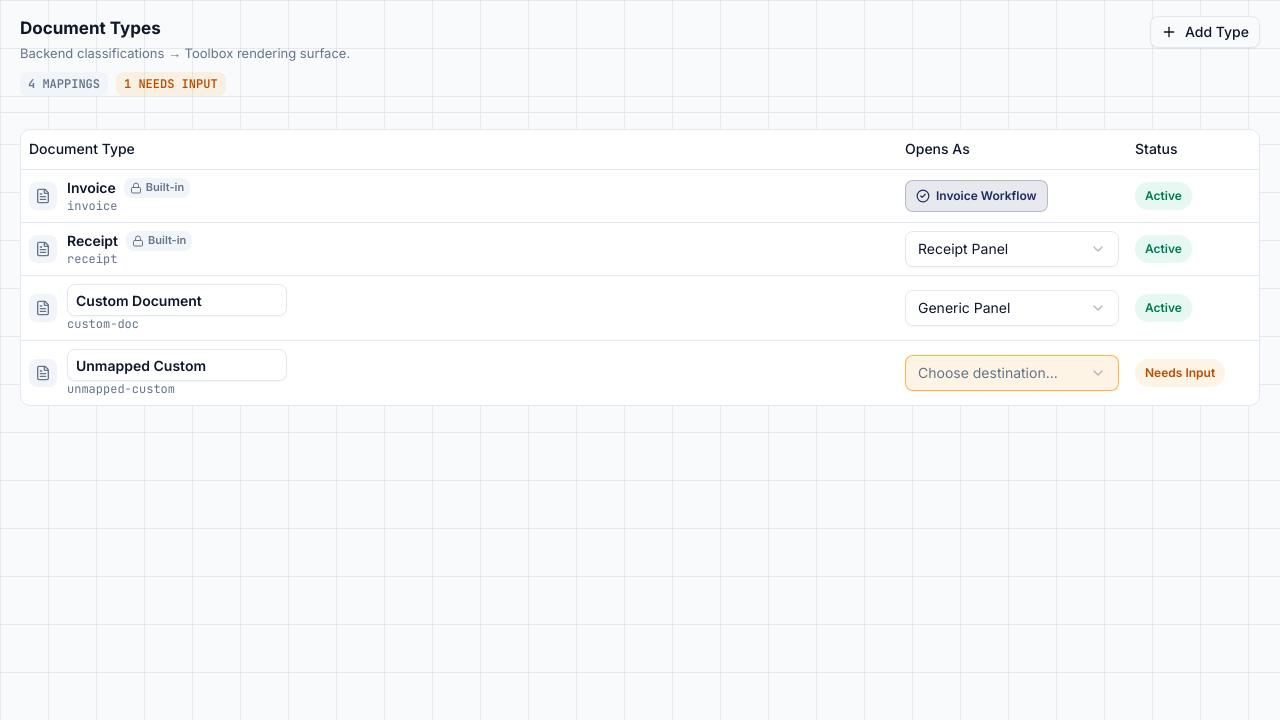
Test: DocumentTypesSection › creates a custom type and clears the add form after success
Click the button "Add Type" at (1205, 32), box [1150,16,1260,48]
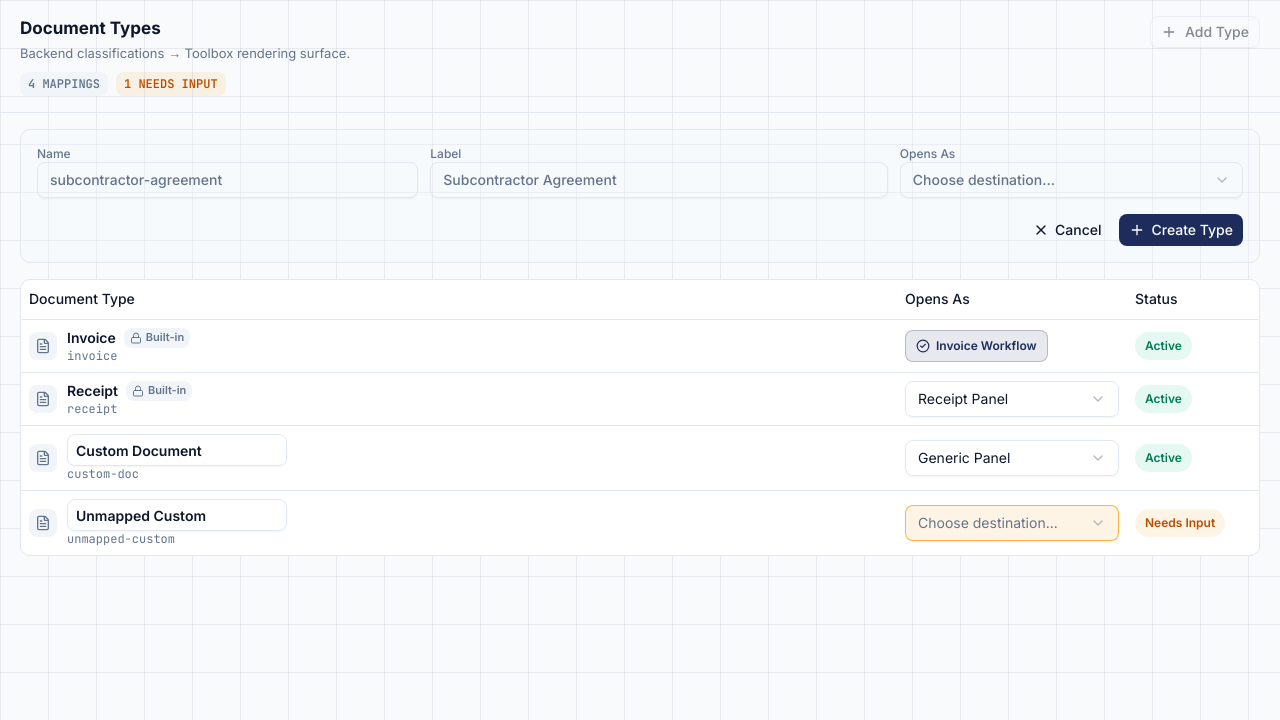
Type "server-doc" into the field named "Document type name" at (228, 180), box [37,162,418,198]
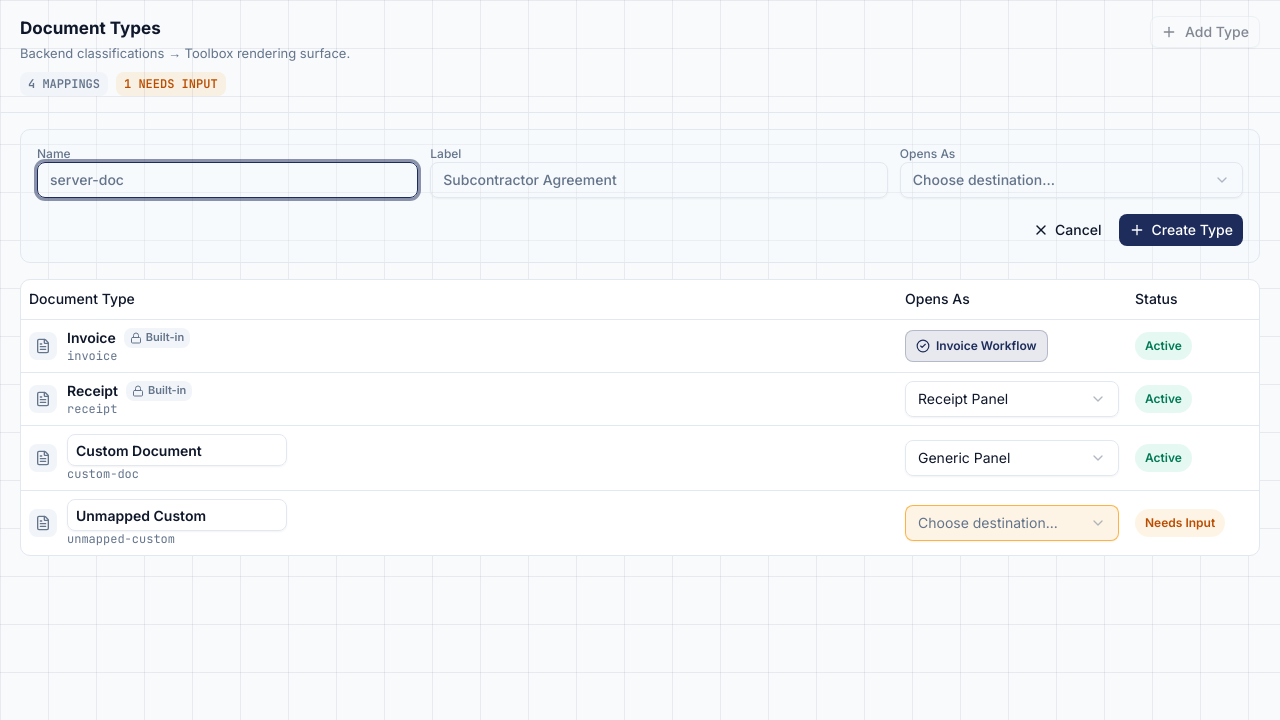
Type "Server Doc" into the field named "Document type label" at (659, 180), box [430,162,888,198]
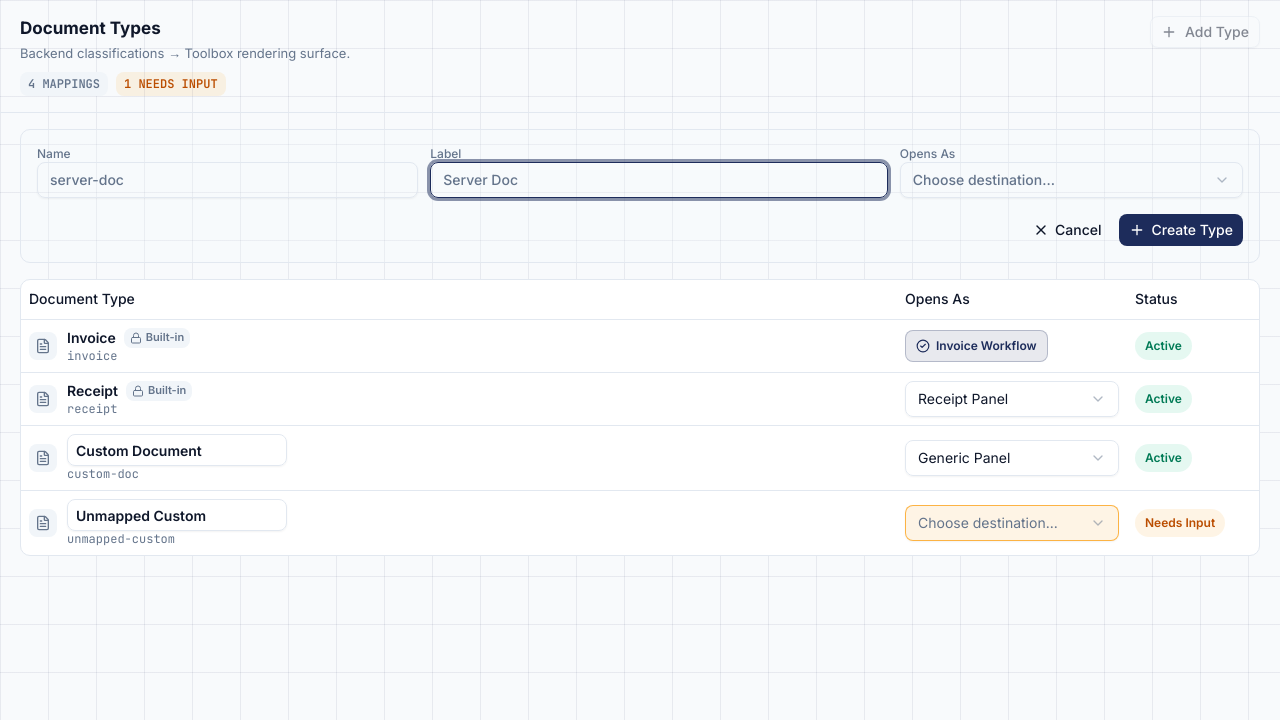
Click the dropdown named "New type opens as" at (984, 179), box [900,162,1243,198]
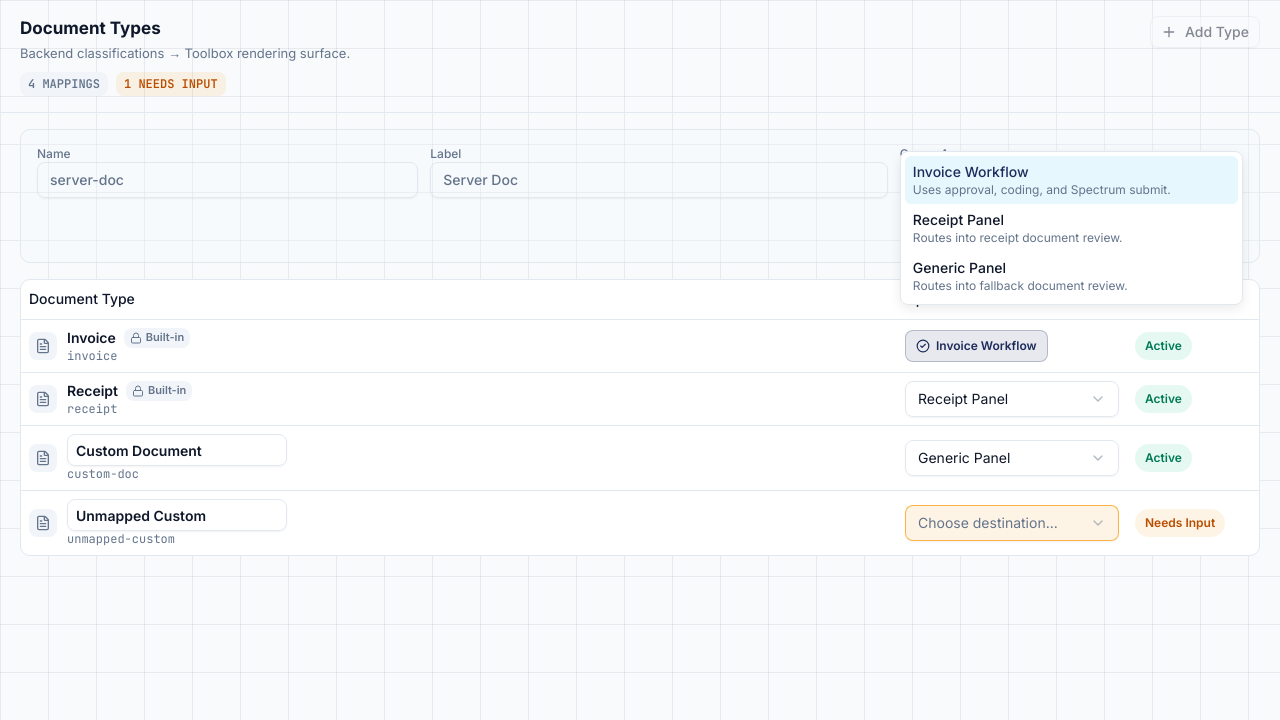
Click the option "Generic Panel Routes into fallback document review." at (1020, 276), box [913,258,1128,292]
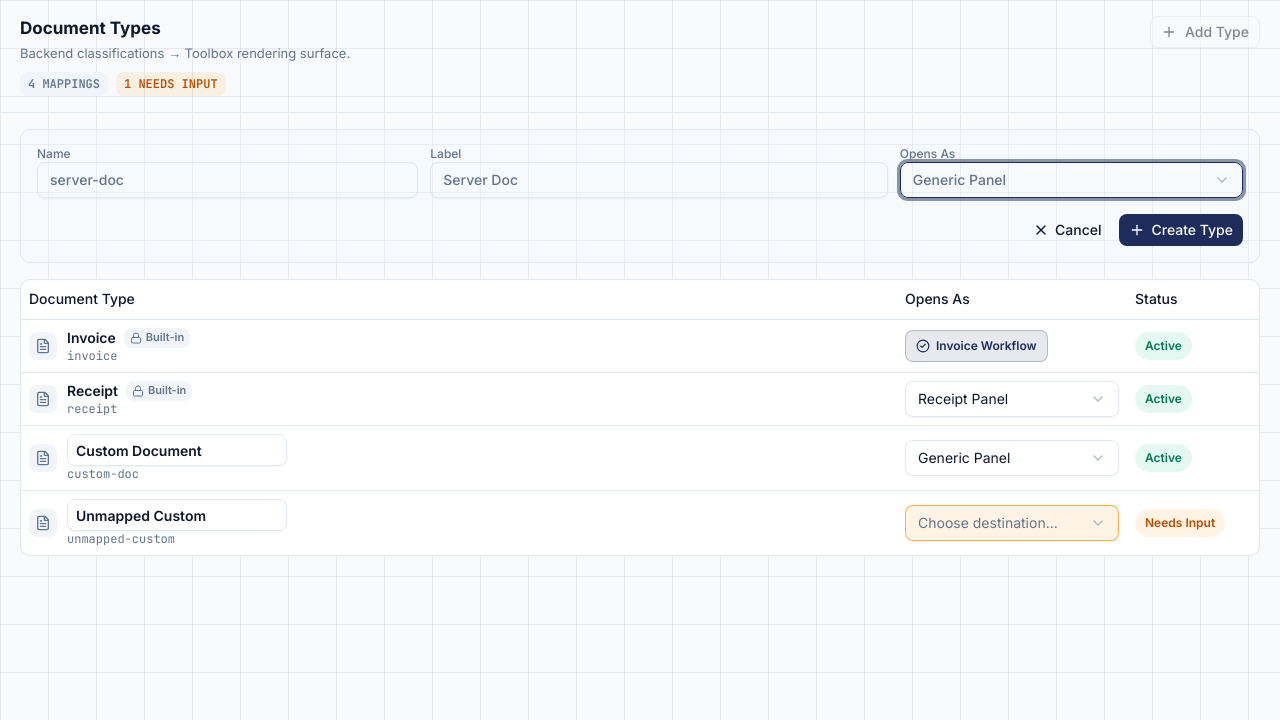
Click the button "Create Type" at (1181, 230), box [1120,214,1243,246]
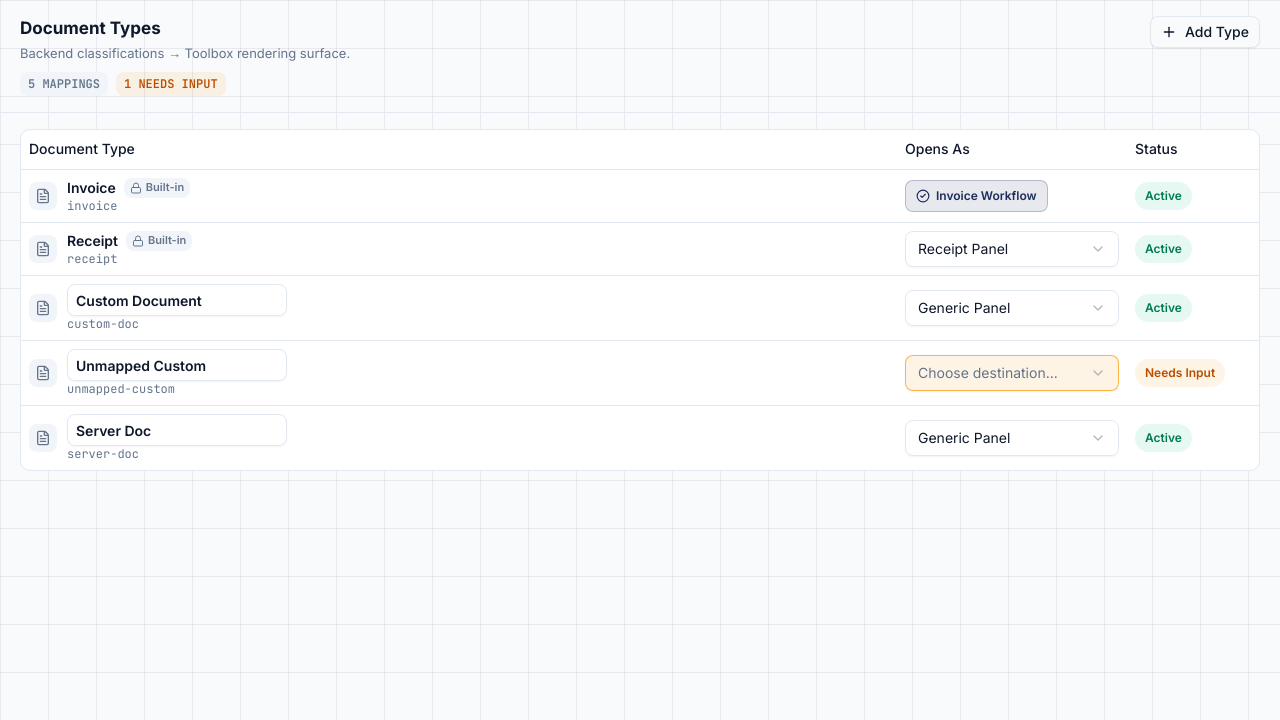
Now the field labelled "Document type name" is gone
Now the field showing "Server Doc" is shown, box [67,414,287,446]
